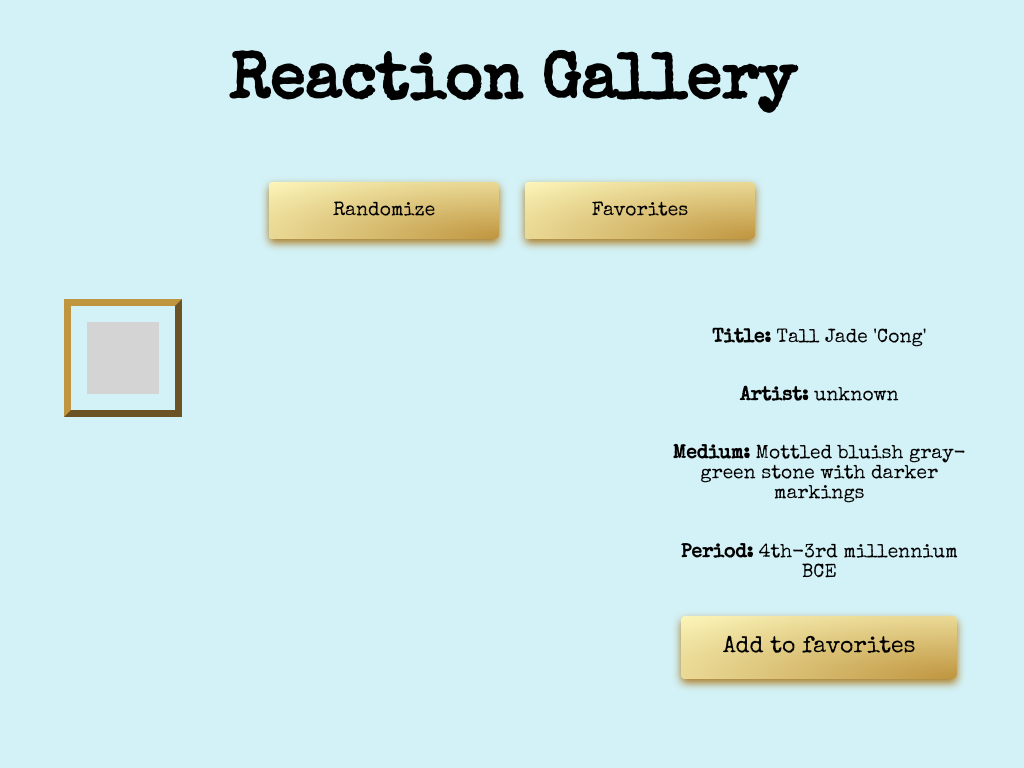
Scenario: Reaction Gallery homepage › Should have a add to favorites button
The image size is (1024, 768).
Click the button "Add to favorites" at {"x": 820, "y": 648}, box [681,616,958,679]
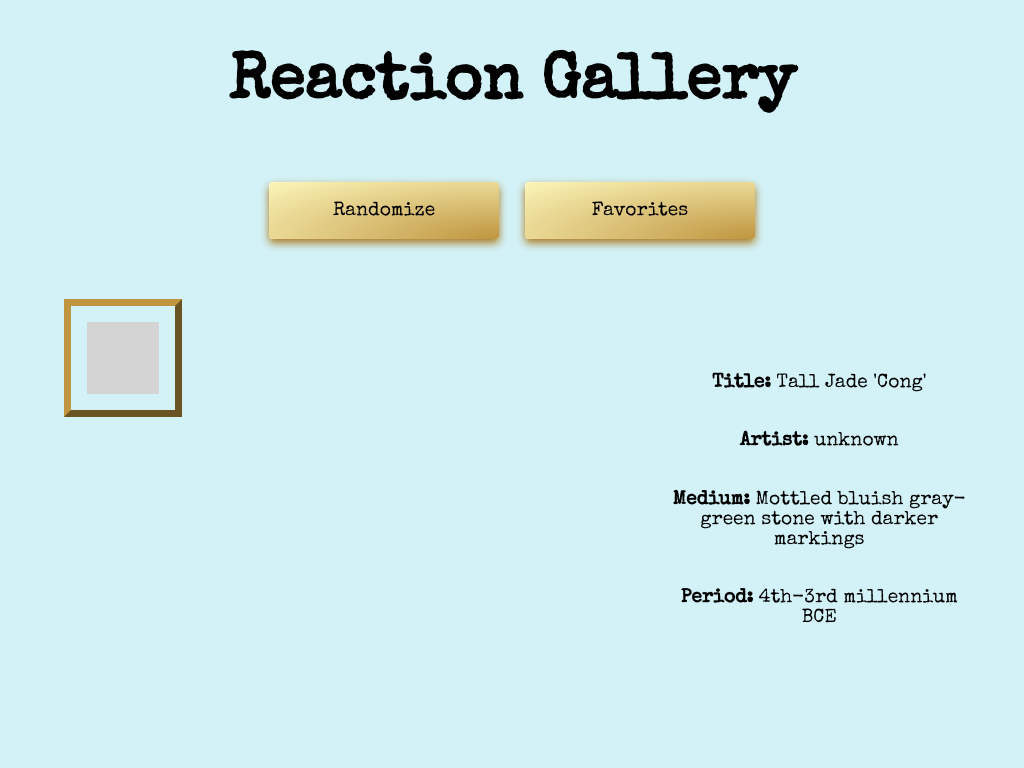
Expected: the button "Add to favorites" is gone
